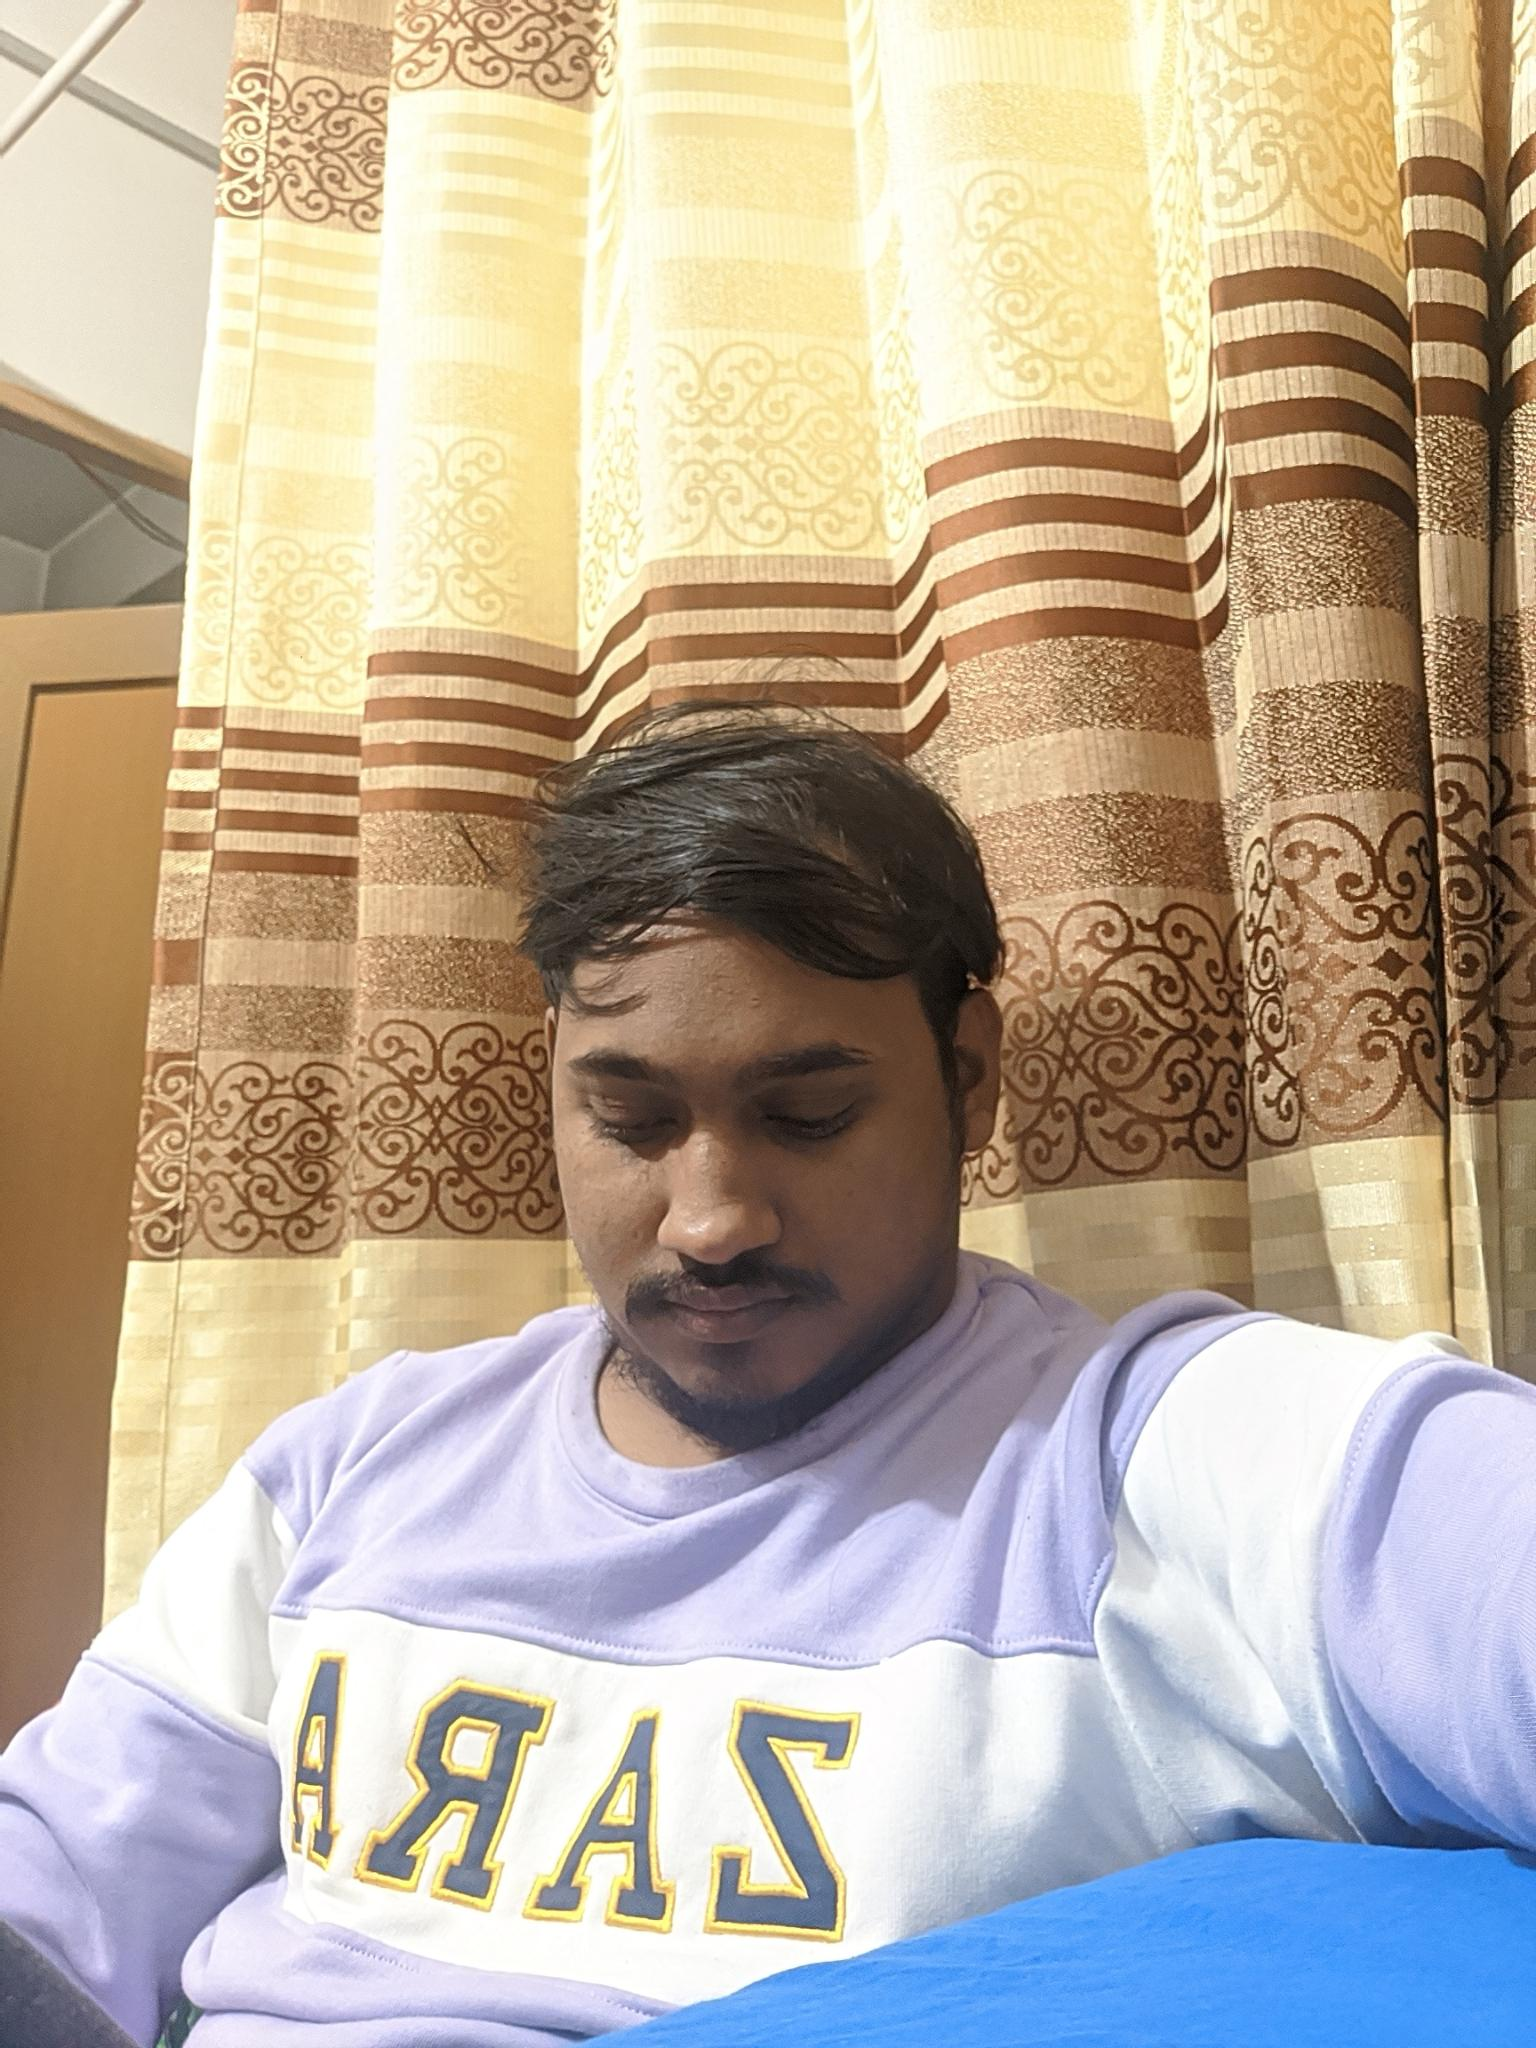Neutral: (529, 974, 937, 1432)
